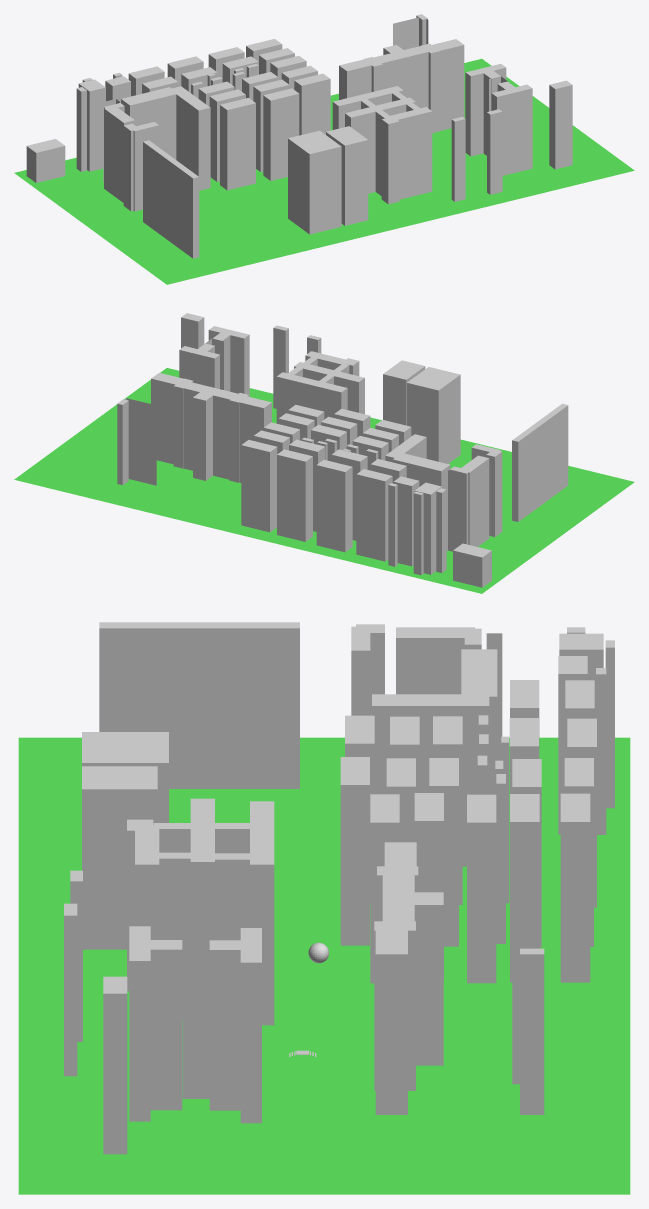
File: campus-scene.glb
The picture shows the model from 3 angles, top to bottom: view 1: azimuth 30°, elevation 25°; view 2: azimuth 150°, elevation 25°; view 3: azimuth 270°, elevation 25°; orthographic projection. The views are drawn at different scales.
Parts seen in each view (by area): view 1: 地面, 宿舍, 图书馆, 餐厅, 大礼堂, 看台, 办公楼, s楼, 体育馆, 创业园, e楼, 商店 (+12 smaller); view 2: 地面, 宿舍, 看台, s楼, 大礼堂, 图书馆, 行政楼, 创业园, 餐厅, 商业街, b楼, 澡堂 (+12 smaller); view 3: 地面, 宿舍, 看台, 图书馆, 体育馆, 餐厅, 连廊, e楼, 行政楼, 报告厅, 商业街, 校医院 (+12 smaller).
Part boxes in pixels (left/top/right/bottom): 地面: left=14, top=59, right=634, bottom=284; 宿舍: left=128, top=39, right=330, bottom=190; 图书馆: left=465, top=64, right=532, bottom=175; 餐厅: left=103, top=86, right=210, bottom=190; 大礼堂: left=288, top=130, right=341, bottom=234; 看台: left=143, top=140, right=199, bottom=258; 办公楼: left=381, top=107, right=432, bottom=204; s楼: left=363, top=43, right=439, bottom=133; 体育馆: left=326, top=126, right=368, bottom=225; 创业园: left=76, top=78, right=105, bottom=171; e楼: left=431, top=39, right=464, bottom=130; 商店: left=123, top=122, right=159, bottom=211; 地面: left=14, top=368, right=634, bottom=593; 宿舍: left=241, top=404, right=411, bottom=561; 看台: left=512, top=403, right=568, bottom=521; s楼: left=173, top=378, right=249, bottom=482; 大礼堂: left=407, top=367, right=460, bottom=463; 图书馆: left=179, top=326, right=249, bottom=396; 行政楼: left=117, top=398, right=156, bottom=485; 创业园: left=413, top=482, right=446, bottom=575; 餐厅: left=385, top=434, right=460, bottom=551; 商业街: left=450, top=455, right=489, bottom=546; b楼: left=276, top=372, right=347, bottom=423; 澡堂: left=388, top=476, right=419, bottom=566; 地面: left=18, top=737, right=630, bottom=1194; 宿舍: left=340, top=680, right=596, bottom=983; 看台: left=99, top=622, right=299, bottom=788; 图书馆: left=129, top=926, right=261, bottom=1123; 体育馆: left=82, top=766, right=157, bottom=949; 餐厅: left=372, top=633, right=502, bottom=866; 连廊: left=152, top=823, right=252, bottom=1018; e楼: left=375, top=930, right=407, bottom=1114; 行政楼: left=512, top=923, right=544, bottom=1114; 报告厅: left=413, top=892, right=443, bottom=1065; 商业街: left=396, top=627, right=481, bottom=694; 校医院: left=103, top=976, right=127, bottom=1154.
Bounding box in the file's own units: 6.07 × 1 × 3.43.
